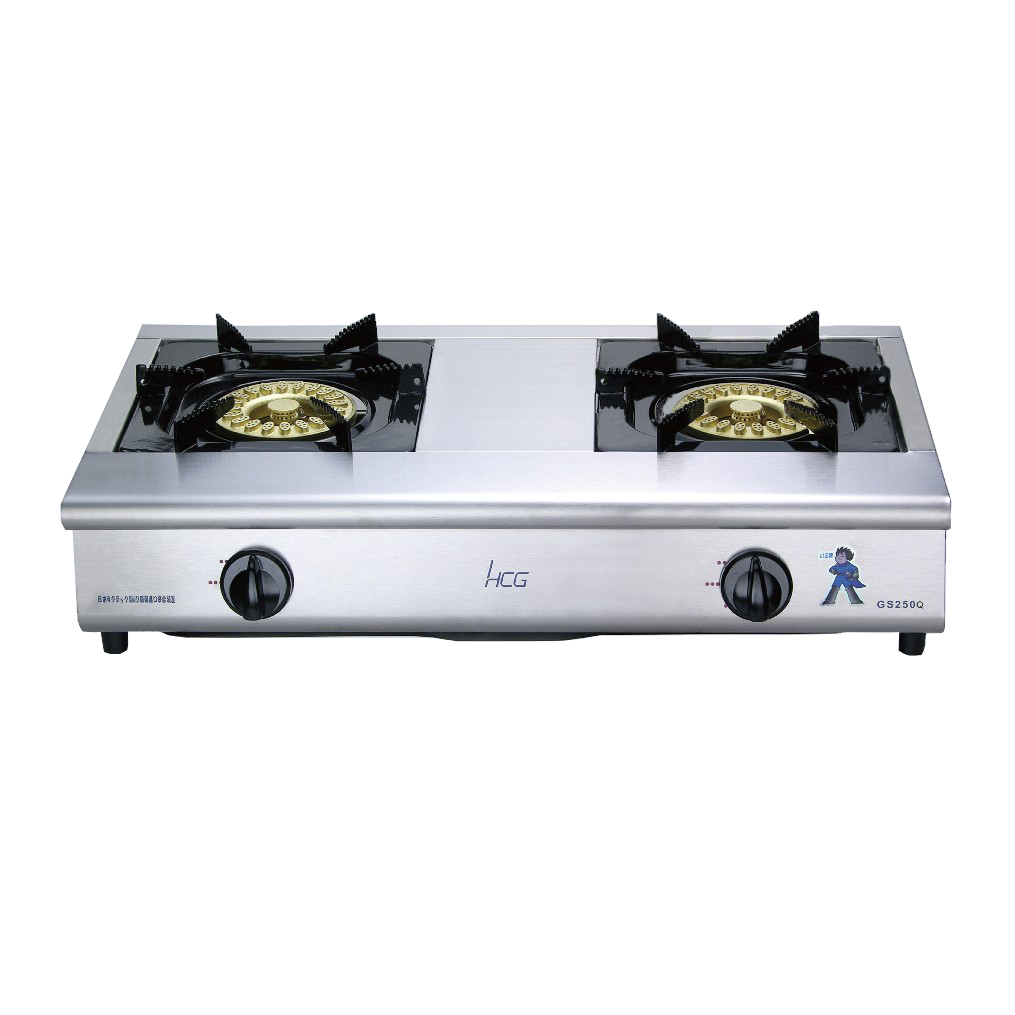gasoven: (59, 296, 960, 676)
